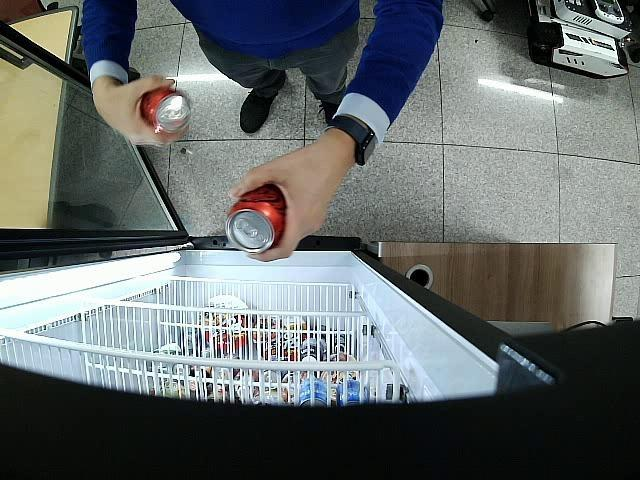11_cocaColaZero: (226, 185, 286, 254), (142, 88, 192, 134)
